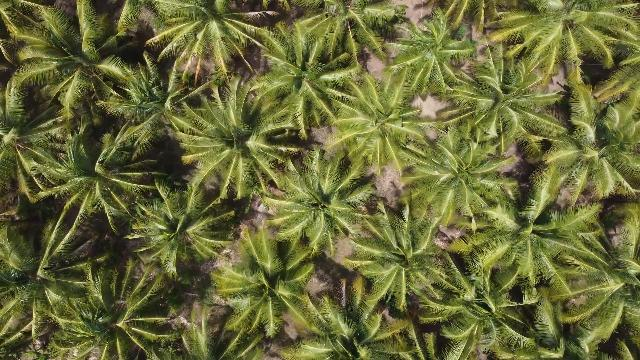trees: (5, 2, 155, 124), (173, 76, 300, 209), (416, 240, 550, 360), (442, 42, 570, 165), (19, 120, 163, 224), (40, 255, 180, 360), (210, 229, 326, 354), (479, 2, 638, 93), (249, 16, 366, 138), (323, 69, 435, 185), (265, 146, 378, 258), (543, 78, 639, 209), (144, 3, 288, 89), (405, 127, 516, 237), (125, 179, 237, 283), (287, 276, 419, 360), (521, 209, 625, 314), (2, 76, 78, 193), (1, 219, 59, 351), (394, 9, 480, 97), (283, 4, 395, 71)
